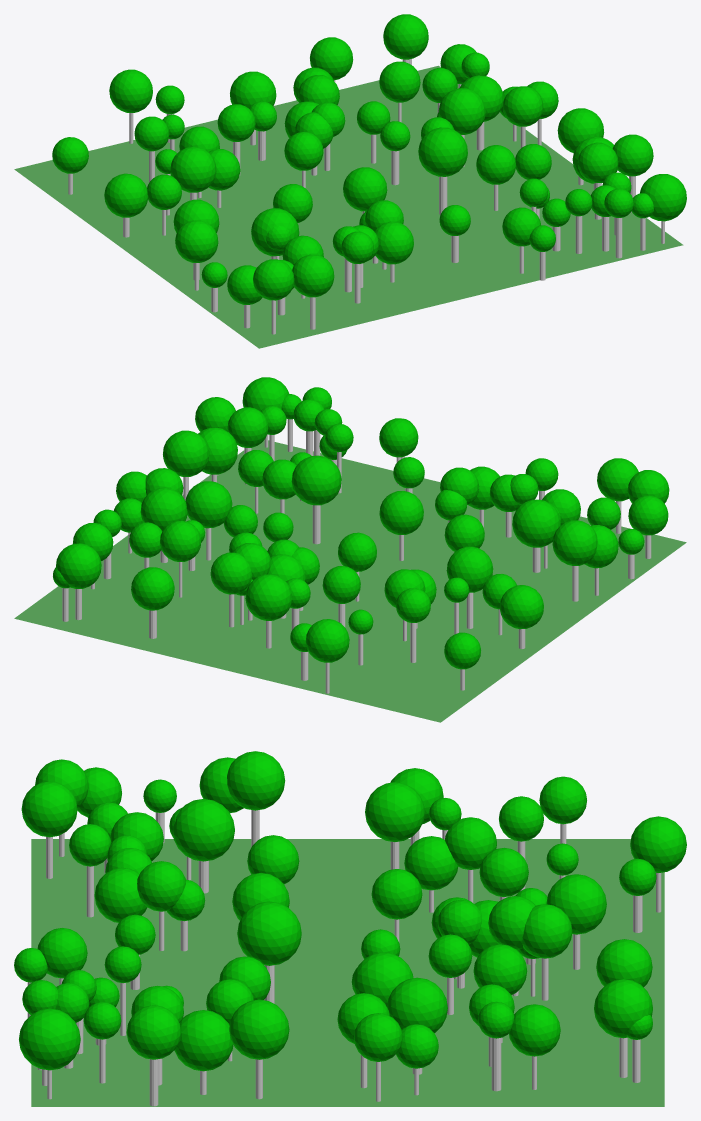
Rendered from mori.fbx.
The picture shows the model from 3 angles, top to bottom: view 1: azimuth 30°, elevation 25°; view 2: azimuth 150°, elevation 25°; view 3: azimuth 270°, elevation 25°; orthographic projection. The views are drawn at different scales.
Parts seen in each view (by area): view 1: Ground, Foliage.044, Foliage.037, Foliage.072, Foliage.045, Foliage.034, Foliage.011, Foliage.030, Foliage.024, Foliage, Foliage.062, Foliage.048 (+45 smaller); view 2: Ground, Foliage.044, Foliage.012, Foliage.010, Foliage.048, Foliage.045, Foliage.032, Foliage.072, Foliage.024, Foliage.011, Foliage.030, Foliage.001 (+46 smaller); view 3: Ground, Foliage.044, Foliage.012, Foliage.034, Foliage.048, Foliage.037, Foliage.071, Foliage.032, Foliage.020, Foliage.072, Foliage.062, Foliage.010 (+53 smaller).
Boxes of the visible parts, x1,y1,x2,y2 form: Ground: (14,65,683,348); Foliage.044: (418,127,467,176); Foliage.037: (170,147,216,192); Foliage.072: (383,14,428,59); Foliage.045: (438,88,485,134); Foliage.034: (640,174,686,221); Foliage.011: (104,173,147,217); Foliage.030: (109,69,152,112); Foliage.024: (343,167,387,211); Foliage: (175,220,218,262); Foliage.062: (292,254,334,297); Foliage.048: (557,108,604,153); Ground: (14,440,686,722); Foliage.044: (291,455,341,505); Foliage.012: (512,499,560,547); Foliage.010: (245,574,292,620); Foliage.048: (163,430,209,476); Foliage.045: (185,481,232,528); Foliage.032: (552,520,597,565); Foliage.072: (56,543,101,588); Foliage.024: (379,491,423,534); Foliage.011: (499,585,543,629); Foliage.030: (305,619,349,662); Foliage.001: (131,567,174,610); Ground: (31,839,664,1106); Foliage.044: (237,901,301,965); Foliage.012: (173,799,234,861); Foliage.034: (19,1008,80,1070); Foliage.048: (229,999,289,1059); Foliage.037: (365,782,424,841); Foliage.071: (174,1010,233,1071); Foliage.032: (227,751,285,810); Foliage.020: (387,977,447,1032); Foliage.072: (594,979,652,1038); Foliage.062: (21,781,77,837); Foliage.010: (546,874,606,934).
Bounding box in the file's own units: 6290 × 1341 × 6374.
